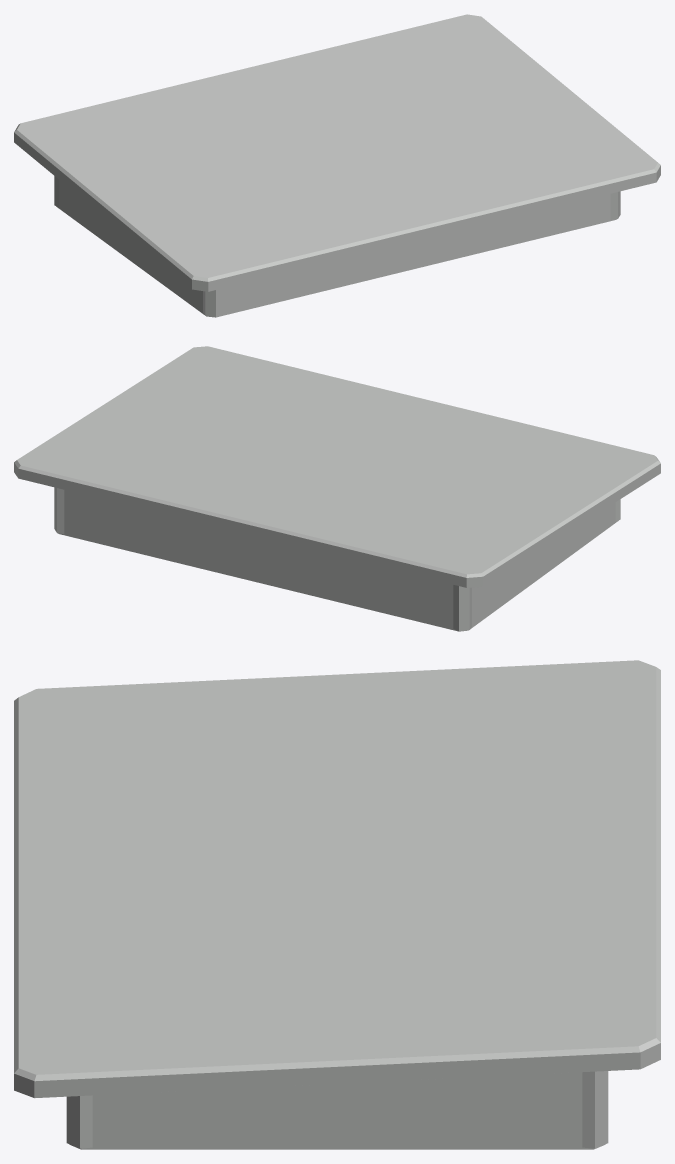
Rendered from SM_Cart_Roof_Wide_01.fbx.
3 views of the same model, one above another, from view 1: azimuth 30°, elevation 25°; view 2: azimuth 150°, elevation 25°; view 3: azimuth 270°, elevation 25° (orthographic). The views are drawn at different scales.
Visible parts, largest first — view 1: SM_Cart_Roof_Wide_01; view 2: SM_Cart_Roof_Wide_01; view 3: SM_Cart_Roof_Wide_01.
Part boxes in pixels (x1,y1,x2,y2): SM_Cart_Roof_Wide_01: (14, 14, 660, 317); SM_Cart_Roof_Wide_01: (14, 346, 660, 631); SM_Cart_Roof_Wide_01: (14, 660, 660, 1149).
Bounding box in the file's own units: 1.58 × 0.237 × 1.11.
1 material, 1 textured.
